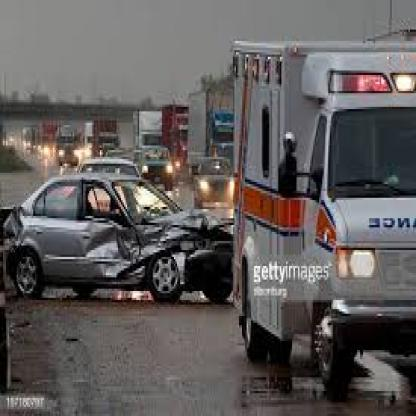accident: (1, 132, 240, 338)
